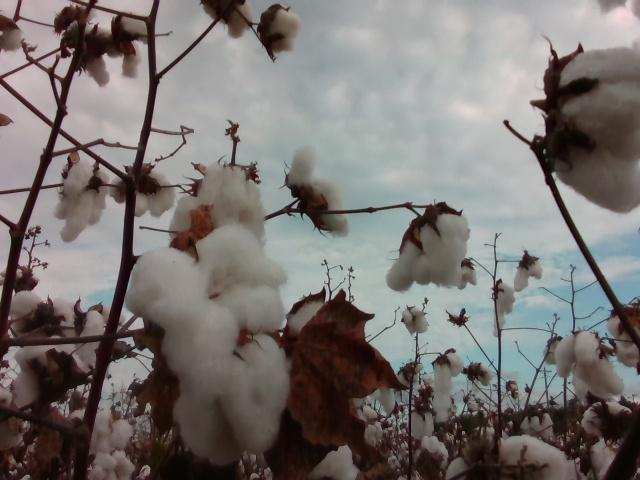cotton_ready: (124, 222, 286, 398), (172, 335, 291, 470), (547, 47, 640, 215), (291, 298, 368, 408), (171, 167, 268, 252), (387, 210, 470, 293), (284, 146, 351, 239), (52, 298, 129, 366), (556, 331, 625, 400), (53, 159, 109, 241), (11, 345, 69, 413), (109, 162, 176, 220), (499, 434, 573, 480), (67, 407, 132, 457), (71, 28, 115, 86), (109, 16, 149, 78), (587, 435, 640, 480), (433, 349, 465, 423), (8, 289, 48, 346), (260, 4, 304, 53), (307, 441, 361, 480), (608, 307, 640, 367), (206, 0, 255, 38), (581, 403, 633, 438), (89, 455, 134, 480)
